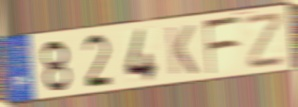2: (81, 32, 114, 90)
4: (124, 26, 159, 83)
8: (40, 39, 71, 93)
F: (202, 14, 242, 77)
K: (164, 24, 199, 78)
Z: (244, 9, 287, 71)
